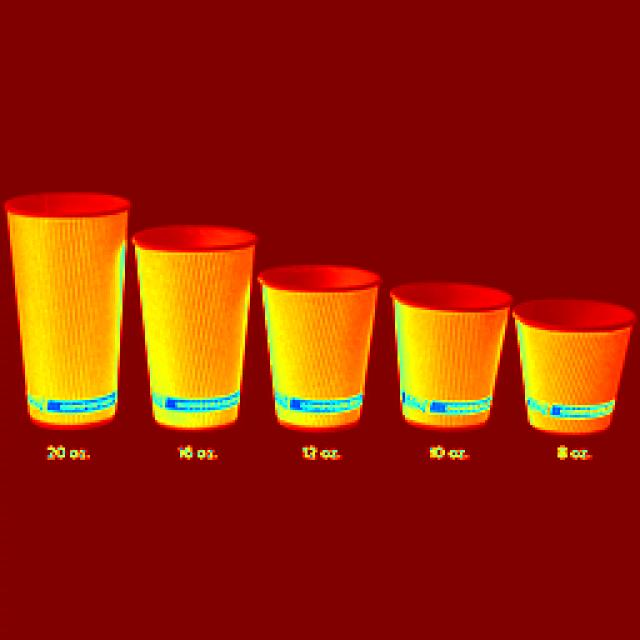Paper Cups: (2, 186, 126, 418), (128, 213, 250, 430), (260, 250, 371, 422), (514, 302, 631, 427), (393, 282, 500, 406)
